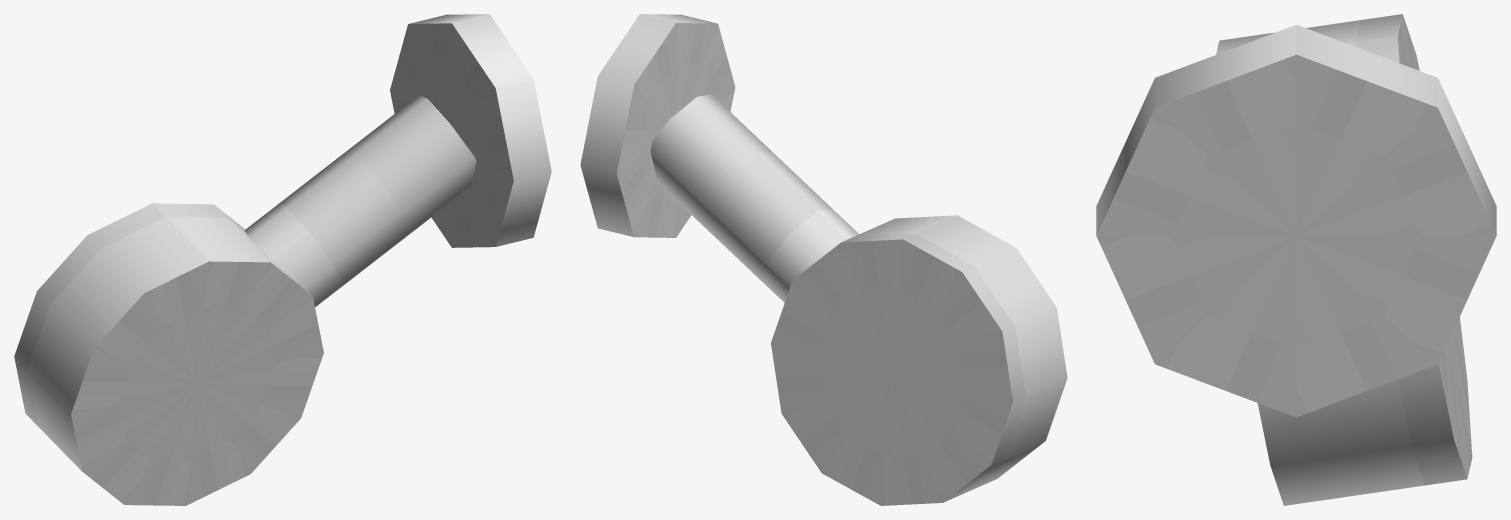
File: trusssignalarm_stub_93.obj
3 renders of one model, left to right at view 1: azimuth 30°, elevation 25°; view 2: azimuth 150°, elevation 25°; view 3: azimuth 270°, elevation 25°, orthographic. The views are drawn at different scales.
Visible parts, largest first — view 1: trusssignalarm_stub_93; view 2: trusssignalarm_stub_93; view 3: trusssignalarm_stub_93.
Part boxes in pixels (x1,y1,x2,y2): trusssignalarm_stub_93: [14, 14, 551, 505]; trusssignalarm_stub_93: [580, 14, 1067, 505]; trusssignalarm_stub_93: [1096, 14, 1496, 505].
Size of the model in its own units: 0.7056 by 0.6474 by 0.35.
